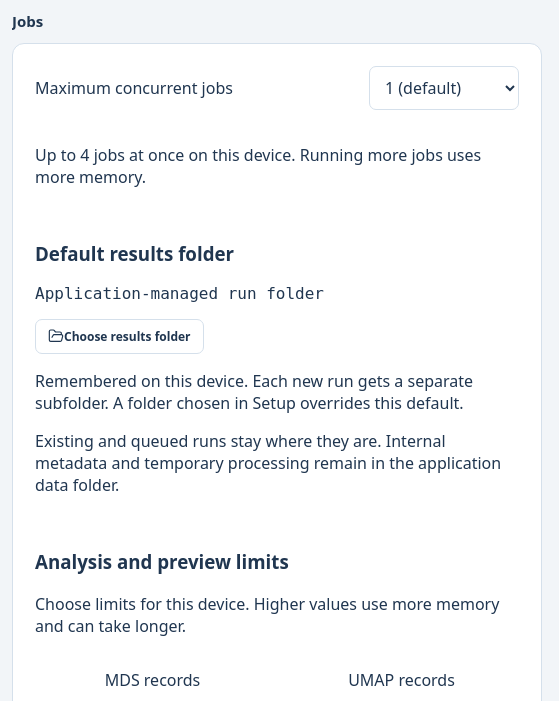
Test: stores a selected folder handle and can restore the application default
Click the button "Choose results folder" at (119, 337), box x1=35 y1=319 x2=204 y2=354
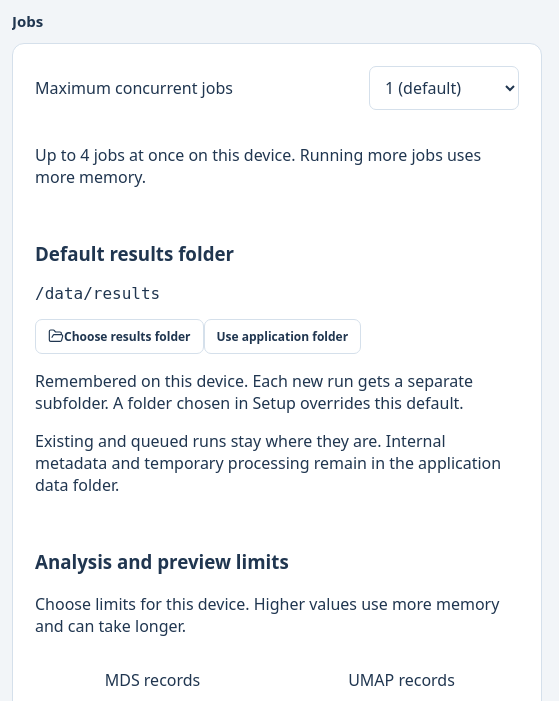
Expected: the text "/data/results" is shown, x1=35 y1=284 x2=160 y2=303
Click the button "Use application folder" at (282, 337), box x1=204 y1=319 x2=361 y2=354
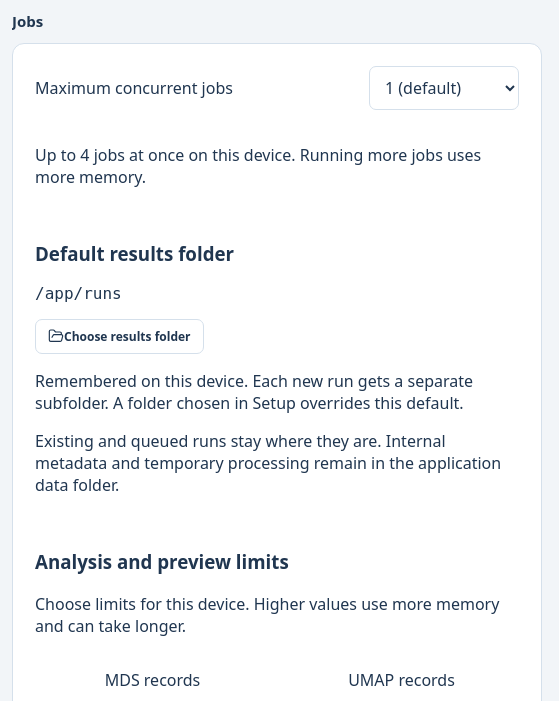
Expected: the text "/app/runs" is shown, x1=35 y1=284 x2=122 y2=303
